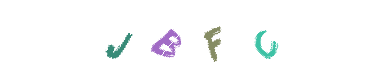B: (154, 0, 234, 80)
C: (172, 0, 252, 80)
F: (155, 0, 235, 80)
J: (128, 0, 208, 80)
